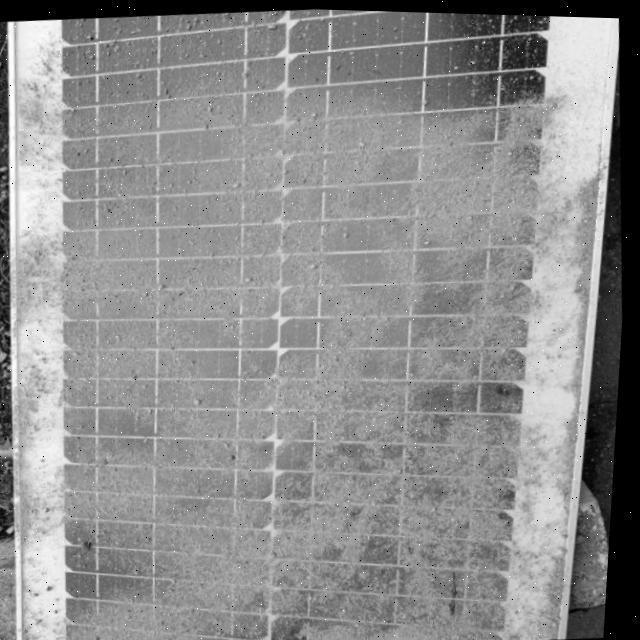Anomaly Solar Panel: (0, 69, 580, 640)
Surface Contaminant: (7, 82, 554, 640)
